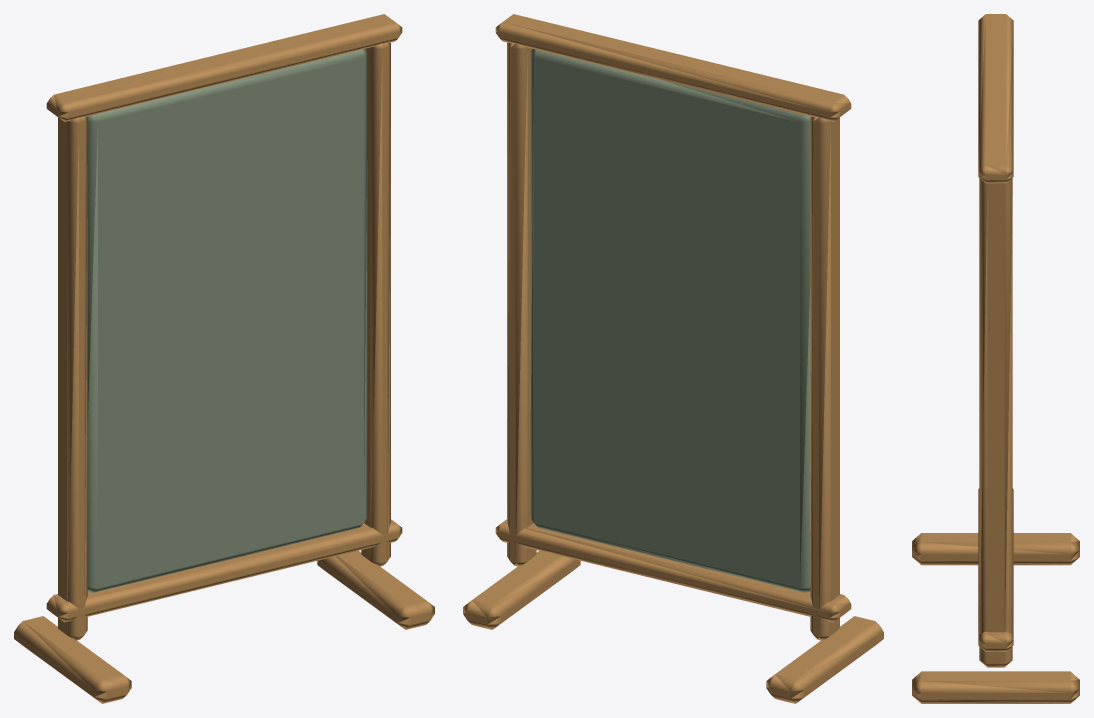
The model's file is acoustic-divider.fbx.
3 renders of one model, left to right at view 1: azimuth 30°, elevation 25°; view 2: azimuth 150°, elevation 25°; view 3: azimuth 270°, elevation 25°, orthographic. The views are drawn at different scales.
Visible parts, largest first — view 1: acoustic-divider; view 2: acoustic-divider; view 3: acoustic-divider.
Boxes of the visible parts, x1,y1,x2,y2 form: acoustic-divider: [14, 14, 434, 703]; acoustic-divider: [463, 14, 883, 703]; acoustic-divider: [912, 14, 1079, 703].
Bounding box in the file's own units: 100 × 160 × 45.
